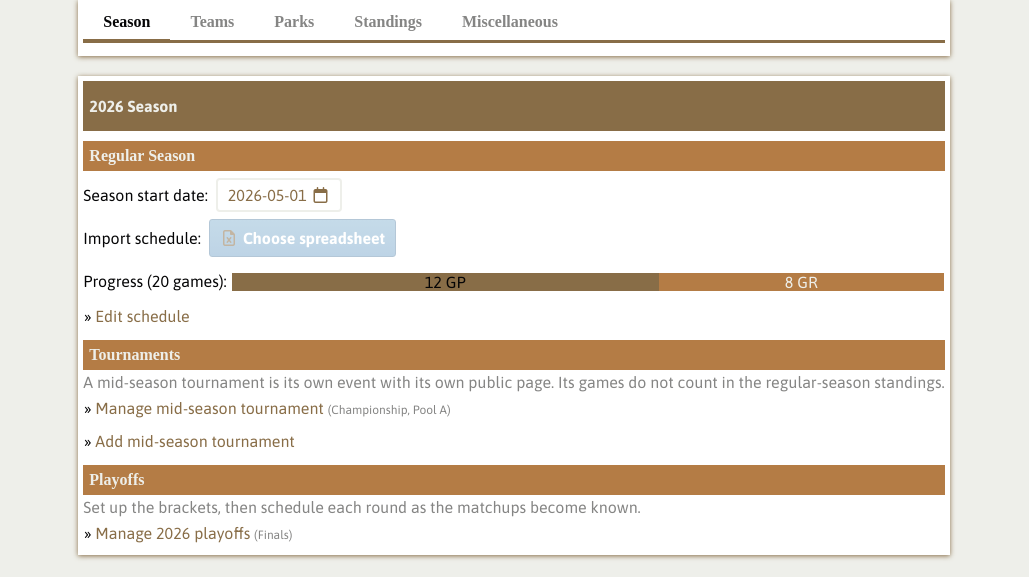
Scenario: Executive Page › teams tab shows active teams with inactive collapsed
The image size is (1029, 577).
Click the button "Teams".
click(212, 24)  # box [170,5,254,43]
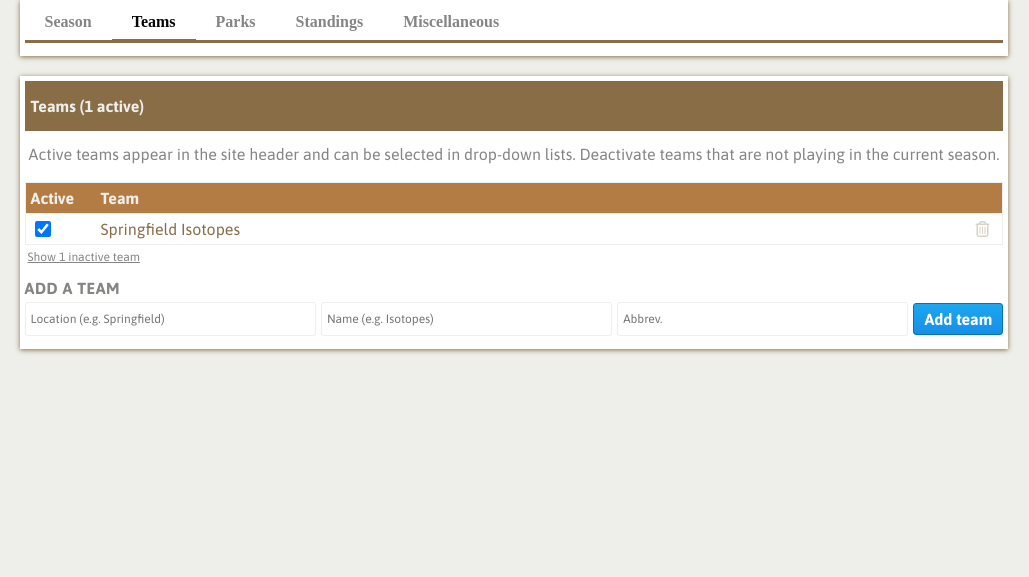
Now the heading "Teams (1 active)" is shown, box [25,81,1003,131]
Now the link "Springfield Isotopes" is shown, box [101,220,240,238]
